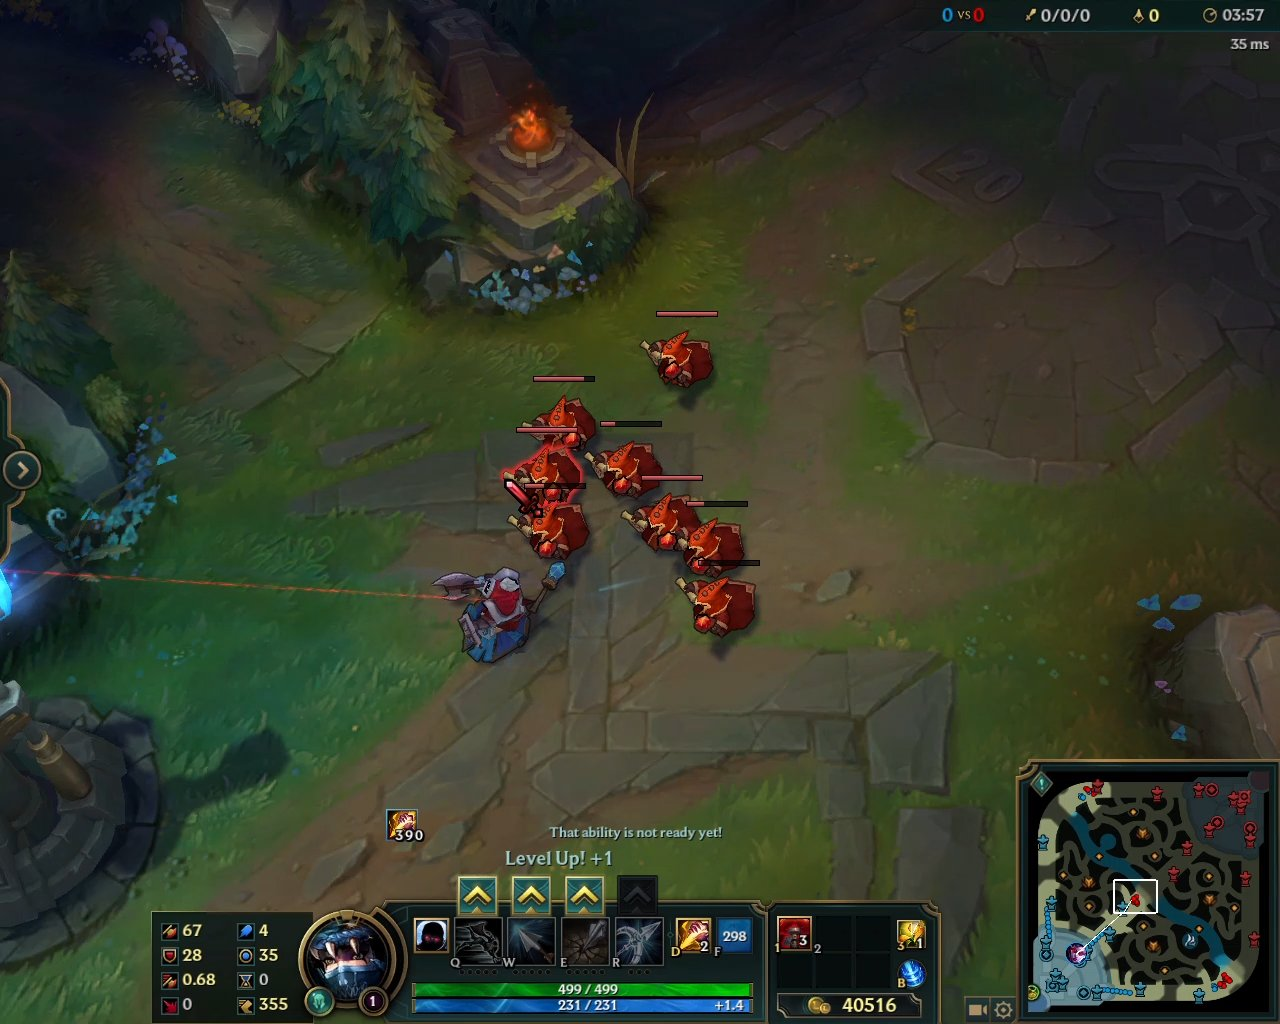EnemyMinion: (673, 561, 759, 644), (502, 424, 579, 515), (621, 474, 702, 557), (668, 499, 749, 581), (639, 309, 719, 391), (508, 483, 585, 564), (583, 422, 662, 501), (525, 374, 597, 457)
